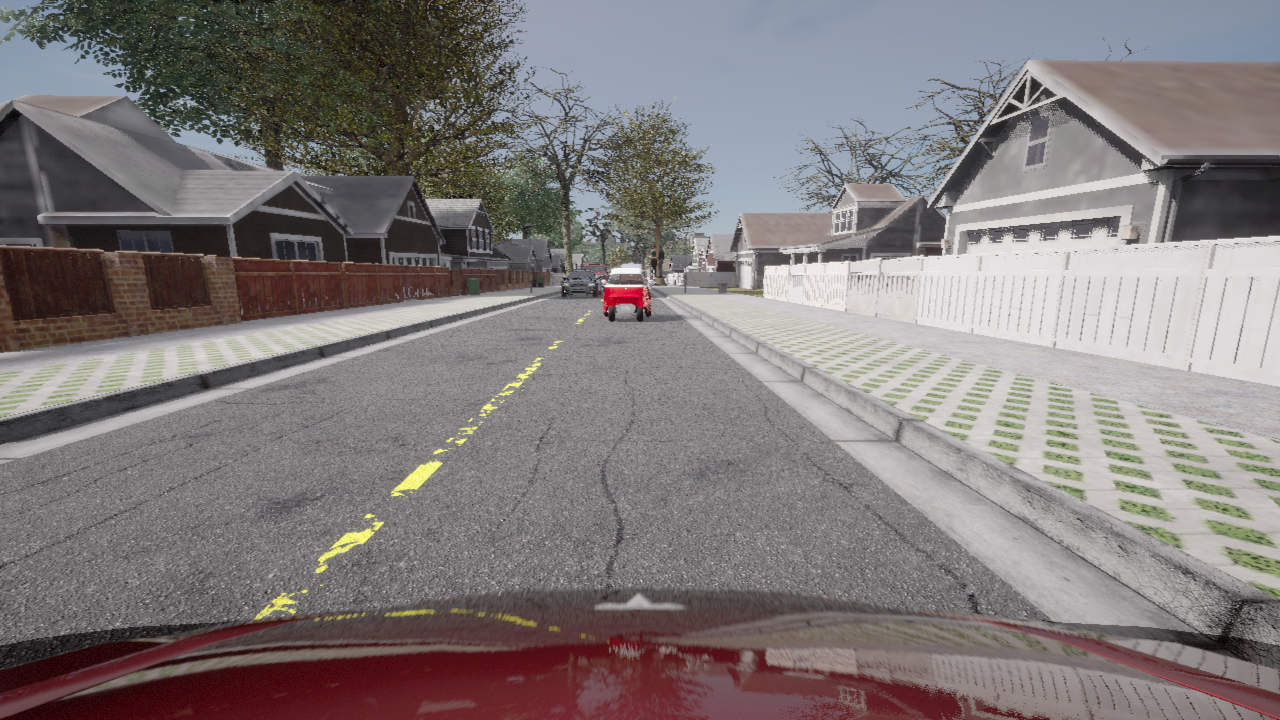cyclist: (0, 588, 1279, 719), (601, 268, 653, 321), (561, 268, 601, 296), (582, 264, 609, 291), (621, 263, 643, 272)
pedestrian: (650, 245, 657, 276), (658, 245, 664, 277)
